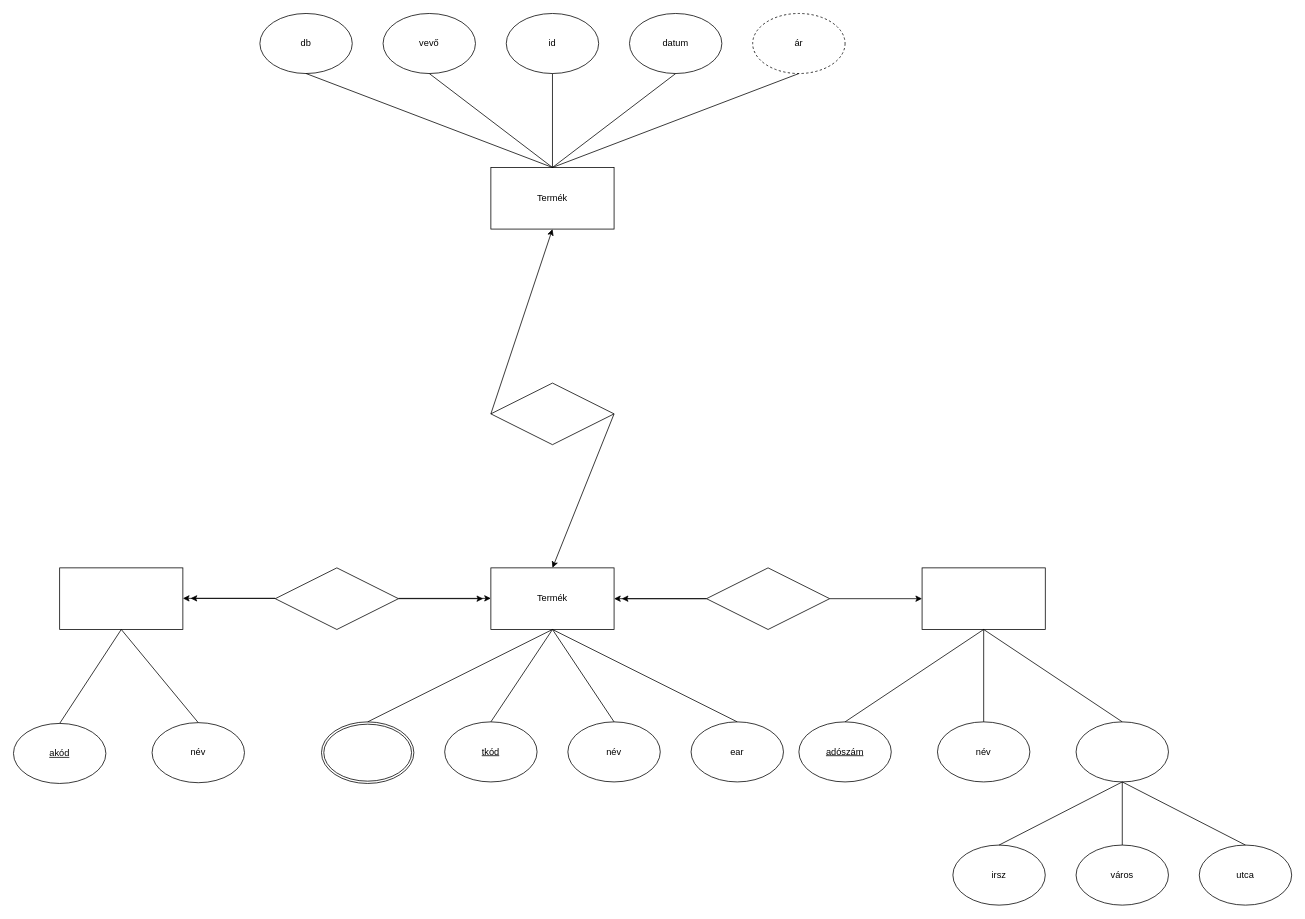
The diagram is 1305 pixels wide and 919 high, and some of its shapes have lost their labels. The shapes that lost their labels are listed below. From the top down, each one's centre as x and y in pixels, then its label:
point (552, 413): TR
point (121, 598): Alkatrész
point (336, 598): AT
point (768, 598): TGY
point (983, 598): Gyártó
point (367, 752): egység_db
point (1121, 751): telephely
